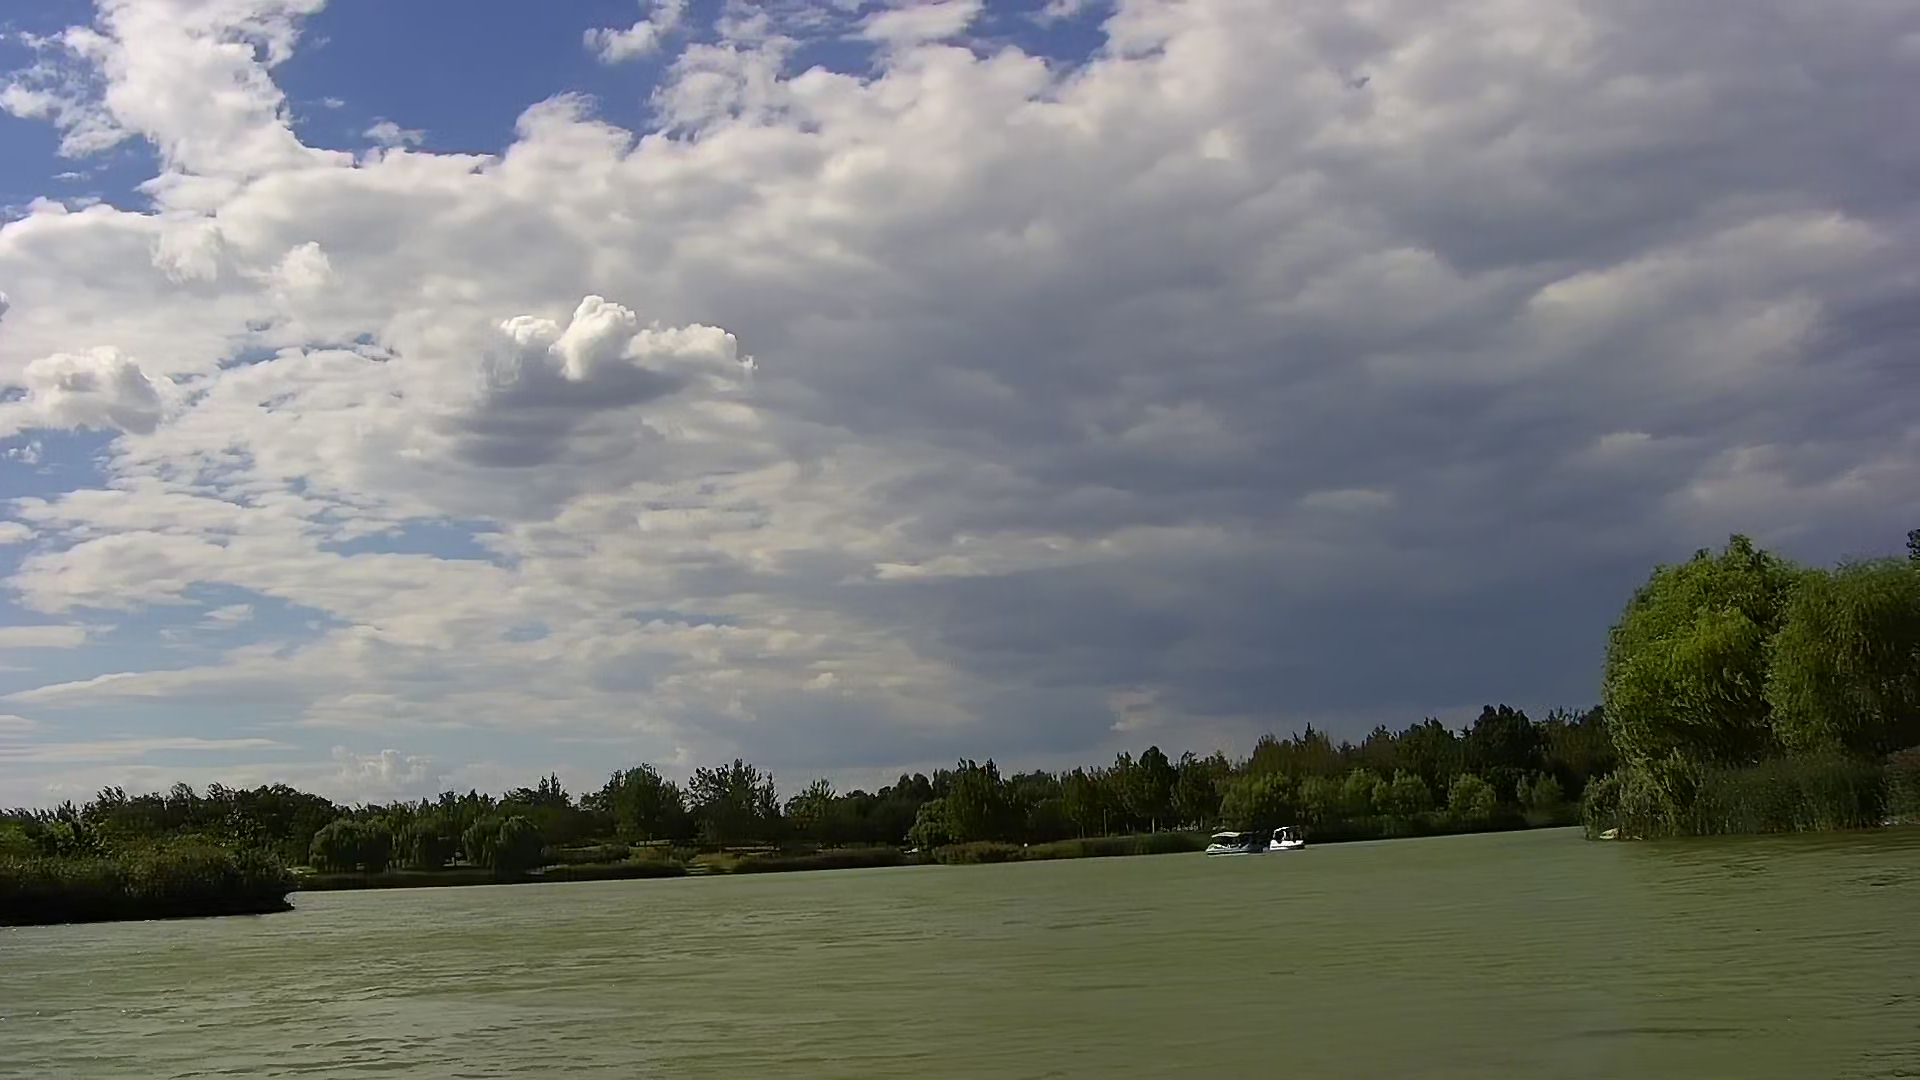boat: (1204, 827, 1253, 858), (1258, 829, 1309, 853)
rock: (1600, 827, 1619, 843)
